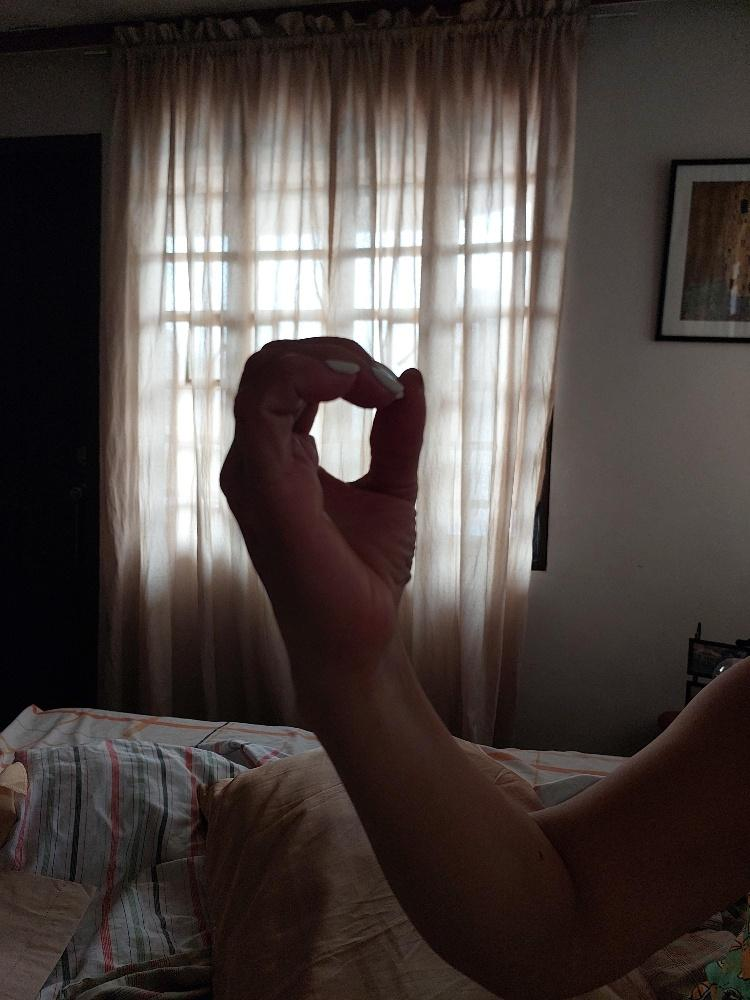o: (211, 329, 429, 656)
